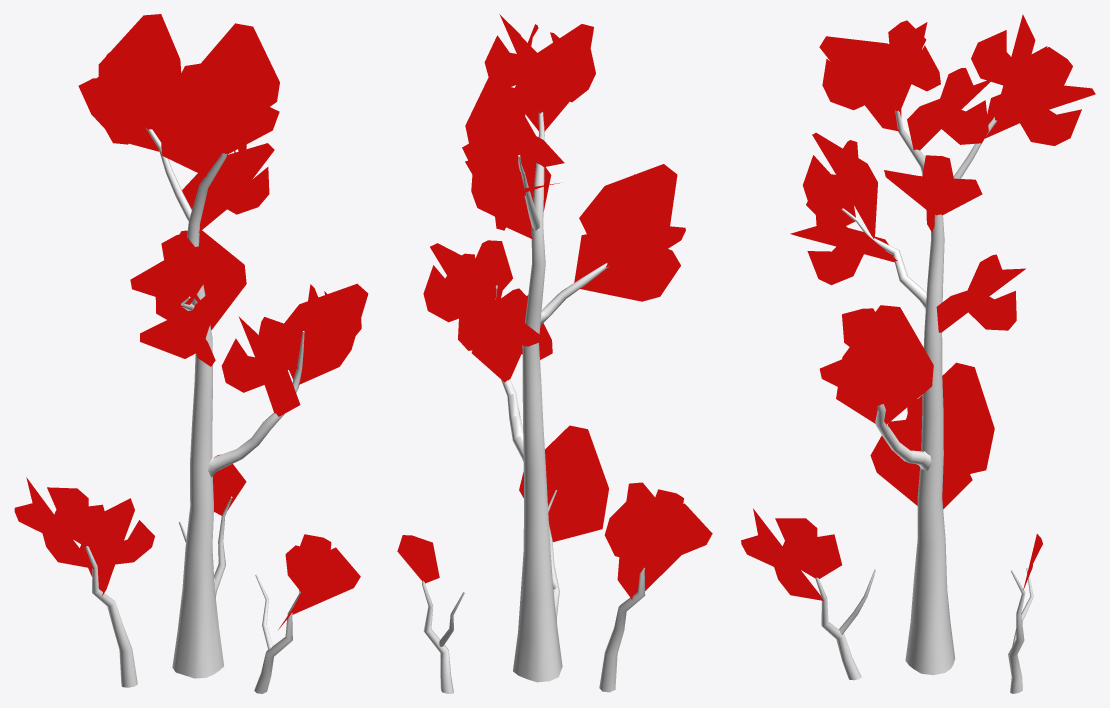
The model's file is SM_tree_06.FBX.
3 views of the same model, side by side, from view 1: azimuth 30°, elevation 25°; view 2: azimuth 150°, elevation 25°; view 3: azimuth 270°, elevation 25° (orthographic). The views are drawn at different scales.
Visible parts, largest first — view 1: SM_tree_06_LOD0; view 2: SM_tree_06_LOD0; view 3: SM_tree_06_LOD0.
Boxes of the visible parts, x1=… form: SM_tree_06_LOD0: x1=14, y1=14, x2=368, y2=693; SM_tree_06_LOD0: x1=397, y1=14, x2=712, y2=693; SM_tree_06_LOD0: x1=741, y1=14, x2=1095, y2=693.
Size of what is drawn, in the model's own units: 296 by 289 by 595.
